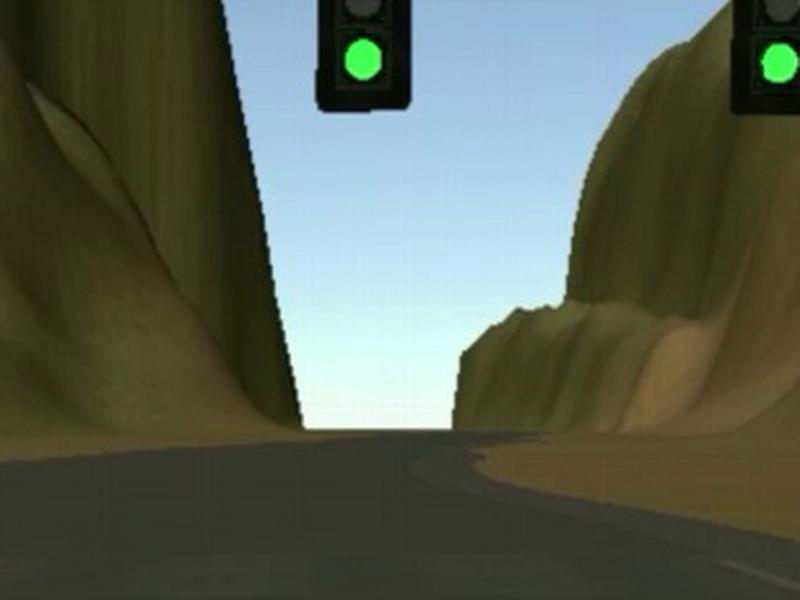Green: (315, 1, 414, 112), (730, 1, 800, 116)
